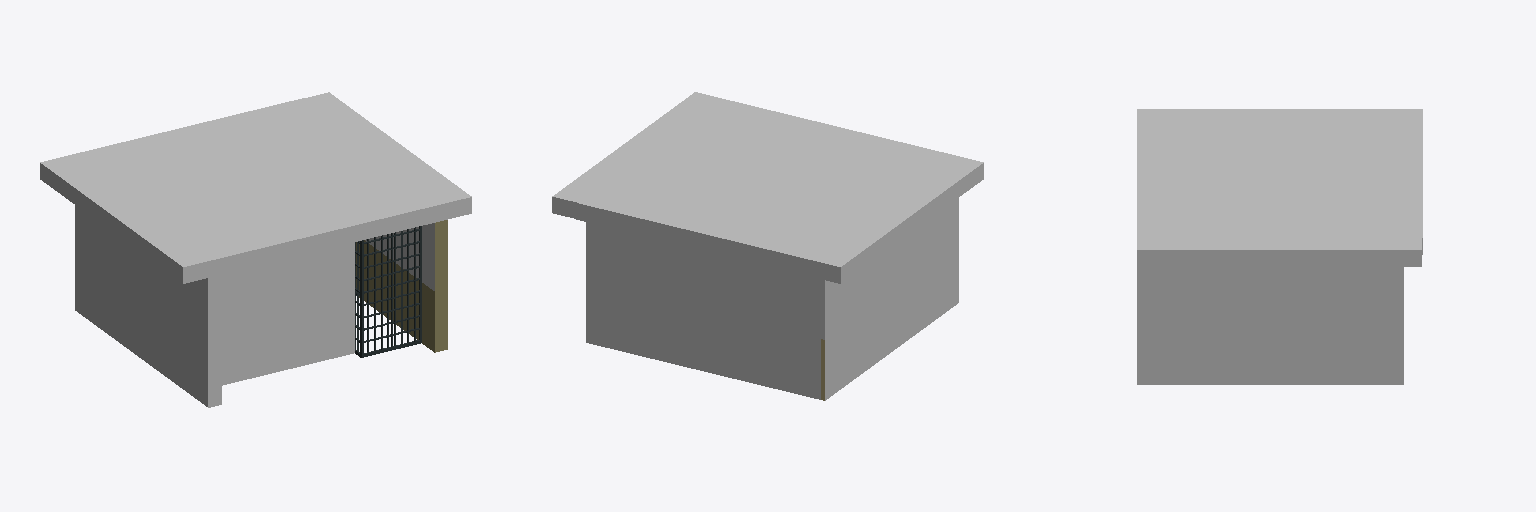
Rendered from casa_terraza.obj.
3 renders of one model, left to right at view 1: azimuth 30°, elevation 25°; view 2: azimuth 150°, elevation 25°; view 3: azimuth 270°, elevation 25°, orthographic.
Visible parts, largest first — view 1: TECHO_4_Cube.033; view 2: TECHO_4_Cube.033; view 3: TECHO_4_Cube.033.
Part boxes in pixels (left/top/right/bottom): TECHO_4_Cube.033: left=40, top=92, right=471, bottom=407; TECHO_4_Cube.033: left=552, top=92, right=983, bottom=400; TECHO_4_Cube.033: left=1137, top=109, right=1422, bottom=384.
Size of the model in its own units: 12.35 by 6.24 by 10.62.